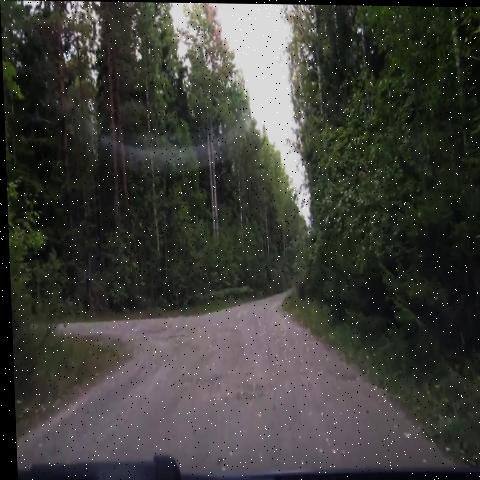pothole: (226, 379, 277, 413), (185, 371, 221, 388), (334, 368, 363, 385)
